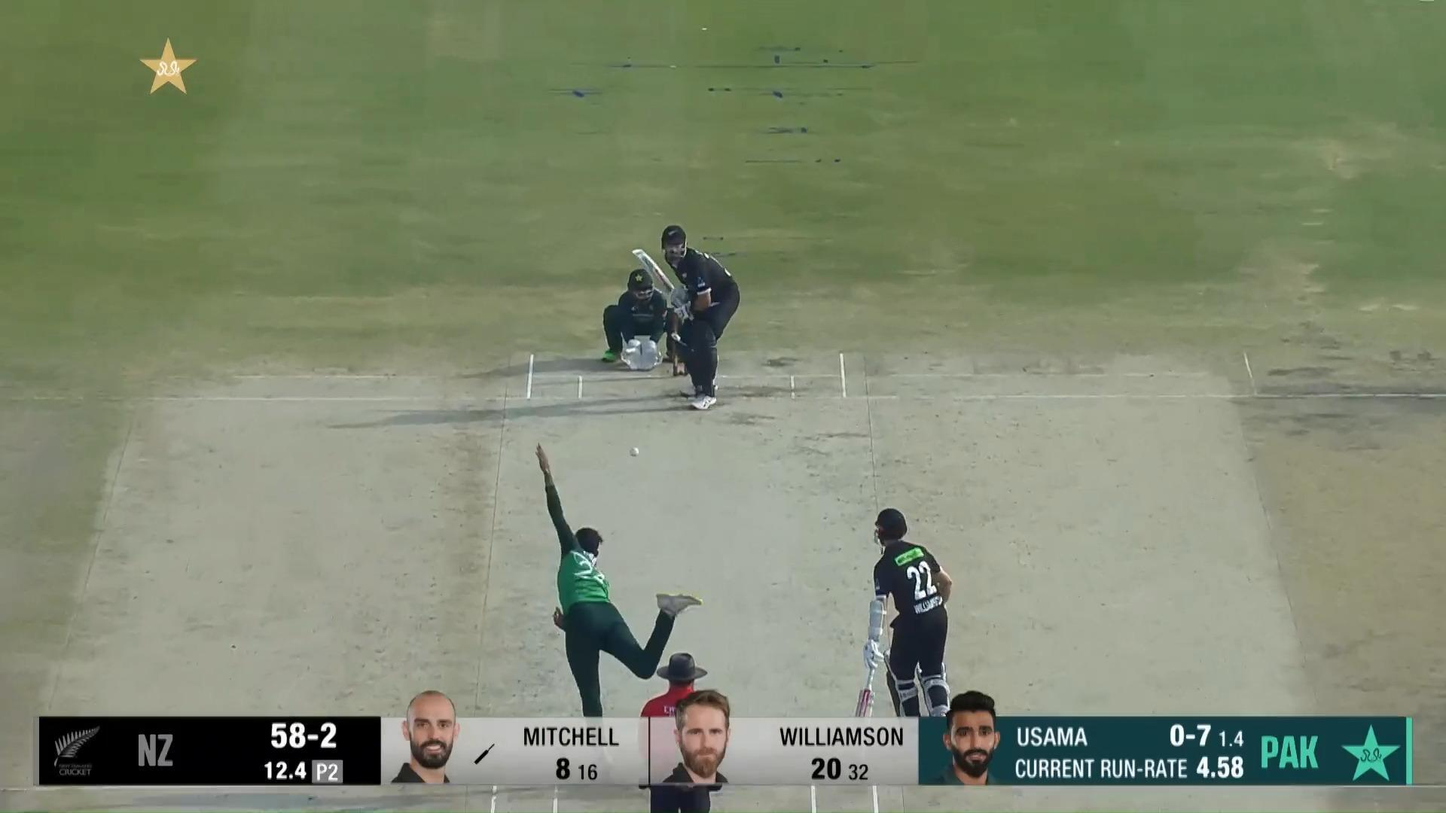BM 1: (631, 223, 741, 412)
BO: (534, 440, 704, 770)
